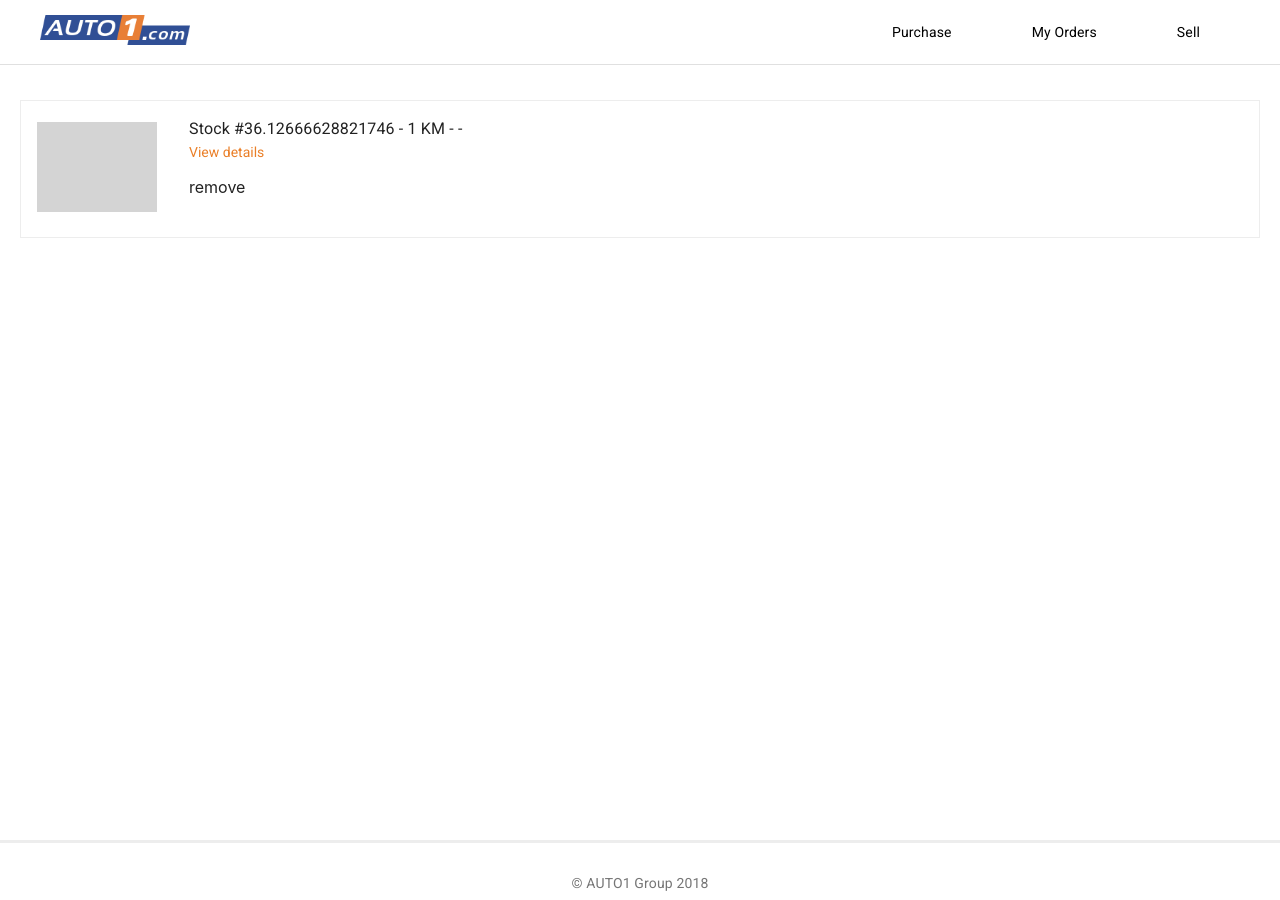
it: (MyOrders) should remove car from list after clicking on "remove"
Click the text "remove" at (217, 187), box x1=189 y1=177 x2=245 y2=197
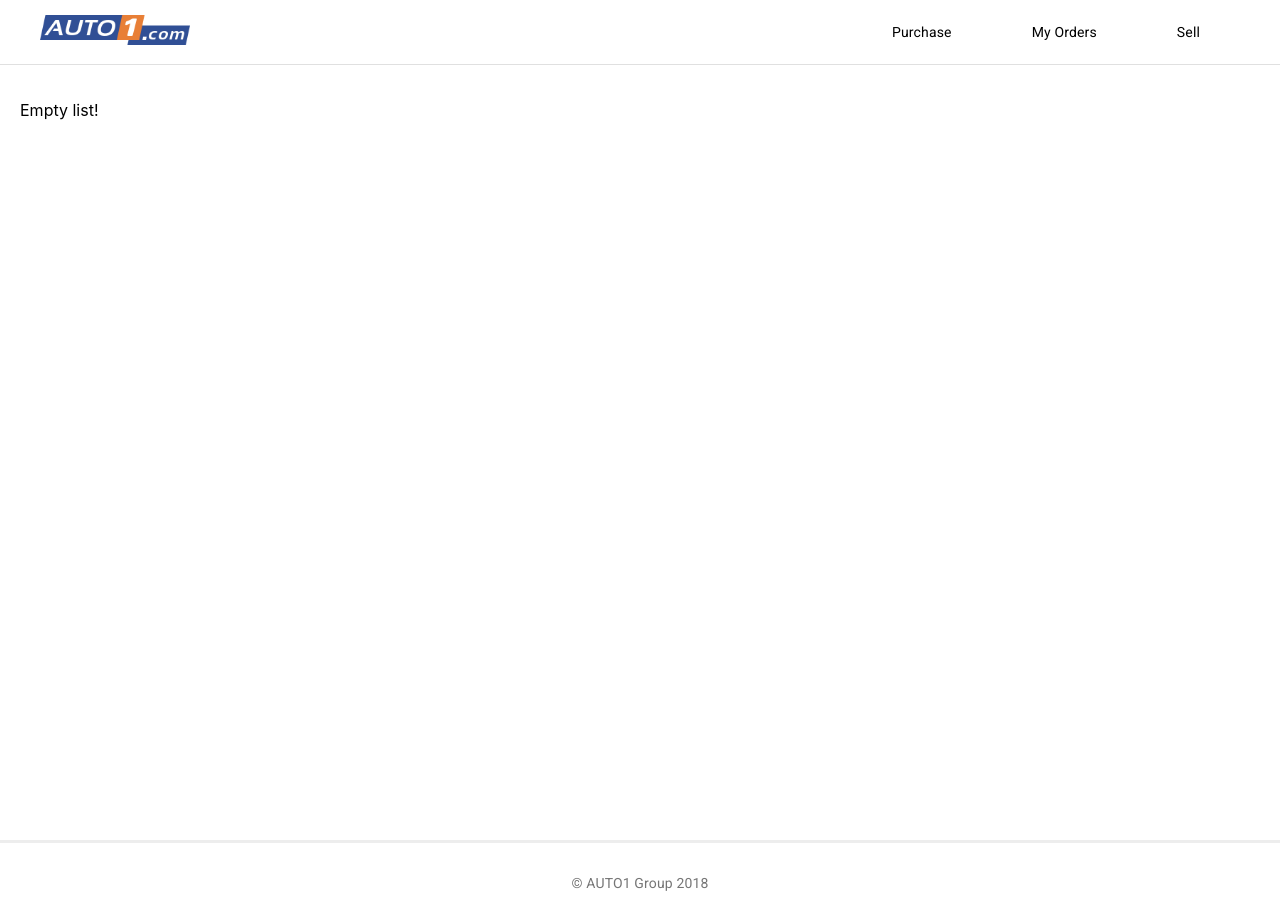
Now the text "Empty list!" is shown, box x1=20 y1=100 x2=98 y2=120
